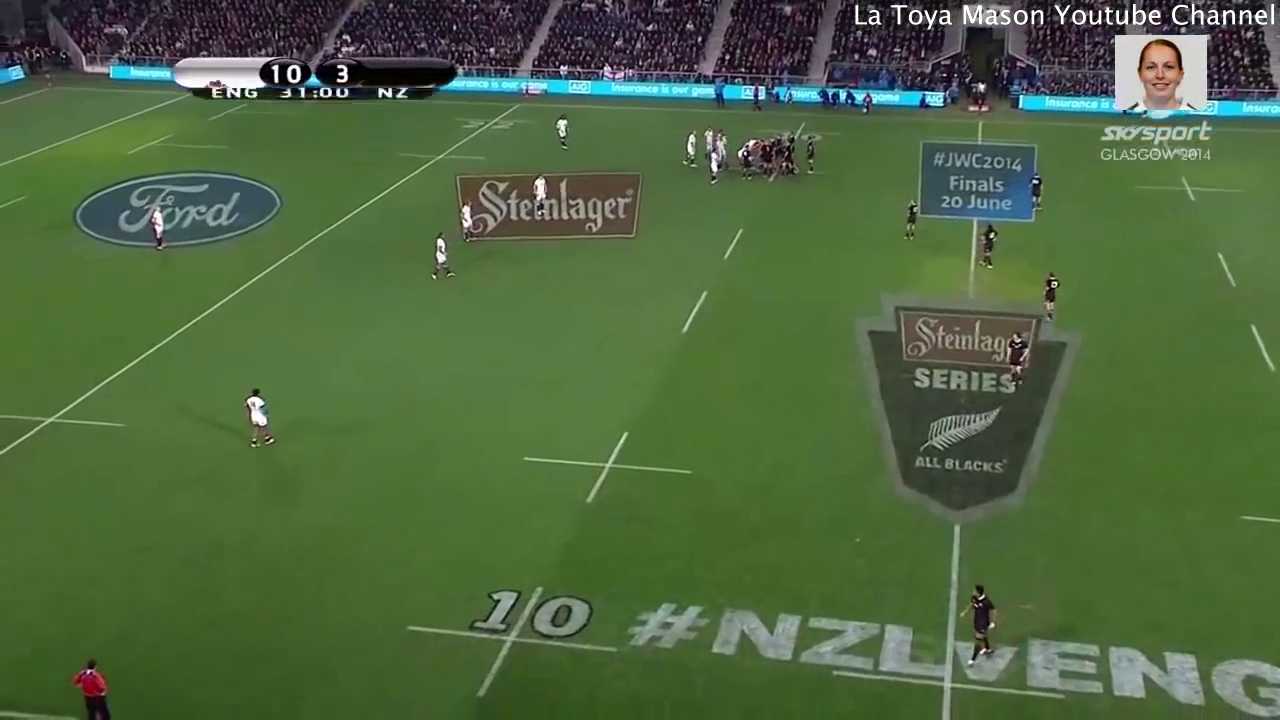10_metre: (397, 581, 625, 705), (514, 415, 698, 521), (1125, 169, 1248, 206), (754, 120, 845, 144)
player: (947, 574, 1001, 682), (991, 316, 1043, 398), (235, 379, 283, 458), (1033, 266, 1074, 329), (973, 212, 1006, 276), (142, 202, 176, 258), (428, 222, 456, 289), (1020, 167, 1053, 221), (452, 193, 478, 250), (897, 196, 926, 246), (548, 109, 574, 156), (529, 168, 551, 221), (701, 144, 726, 187), (802, 131, 822, 178), (682, 124, 701, 172), (756, 141, 775, 180), (737, 143, 755, 181), (780, 141, 796, 181), (699, 122, 713, 151), (713, 124, 727, 153), (784, 127, 793, 144)
